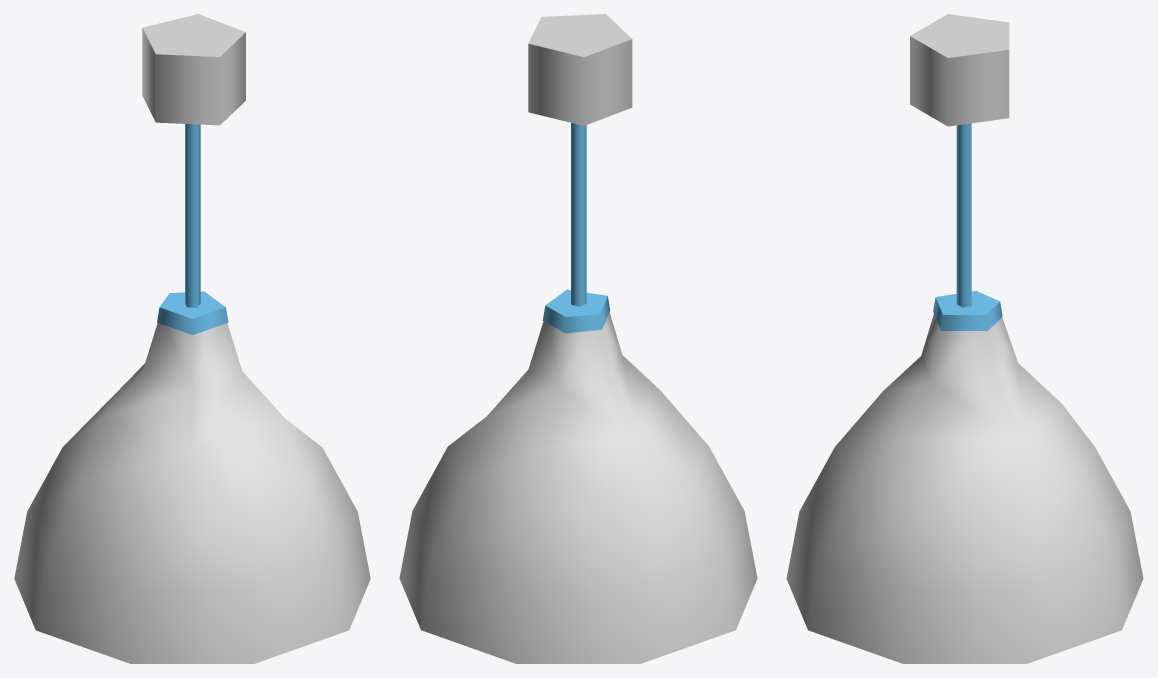
File: lamp_001.glb
The picture shows the model from 3 angles, left to right: view 1: azimuth 30°, elevation 25°; view 2: azimuth 150°, elevation 25°; view 3: azimuth 270°, elevation 25°; orthographic projection.
Parts seen in each view (by area): view 1: lamp_001; view 2: lamp_001; view 3: lamp_001.
Boxes of the visible parts, box(x1,y1,x2,y2) form: lamp_001: box(14, 14, 370, 663); lamp_001: box(399, 14, 757, 663); lamp_001: box(786, 14, 1143, 663).
Bounding box in the file's own units: 0.3141 × 0.5481 × 0.319.
Materials: 1 (1 with a texture image).
